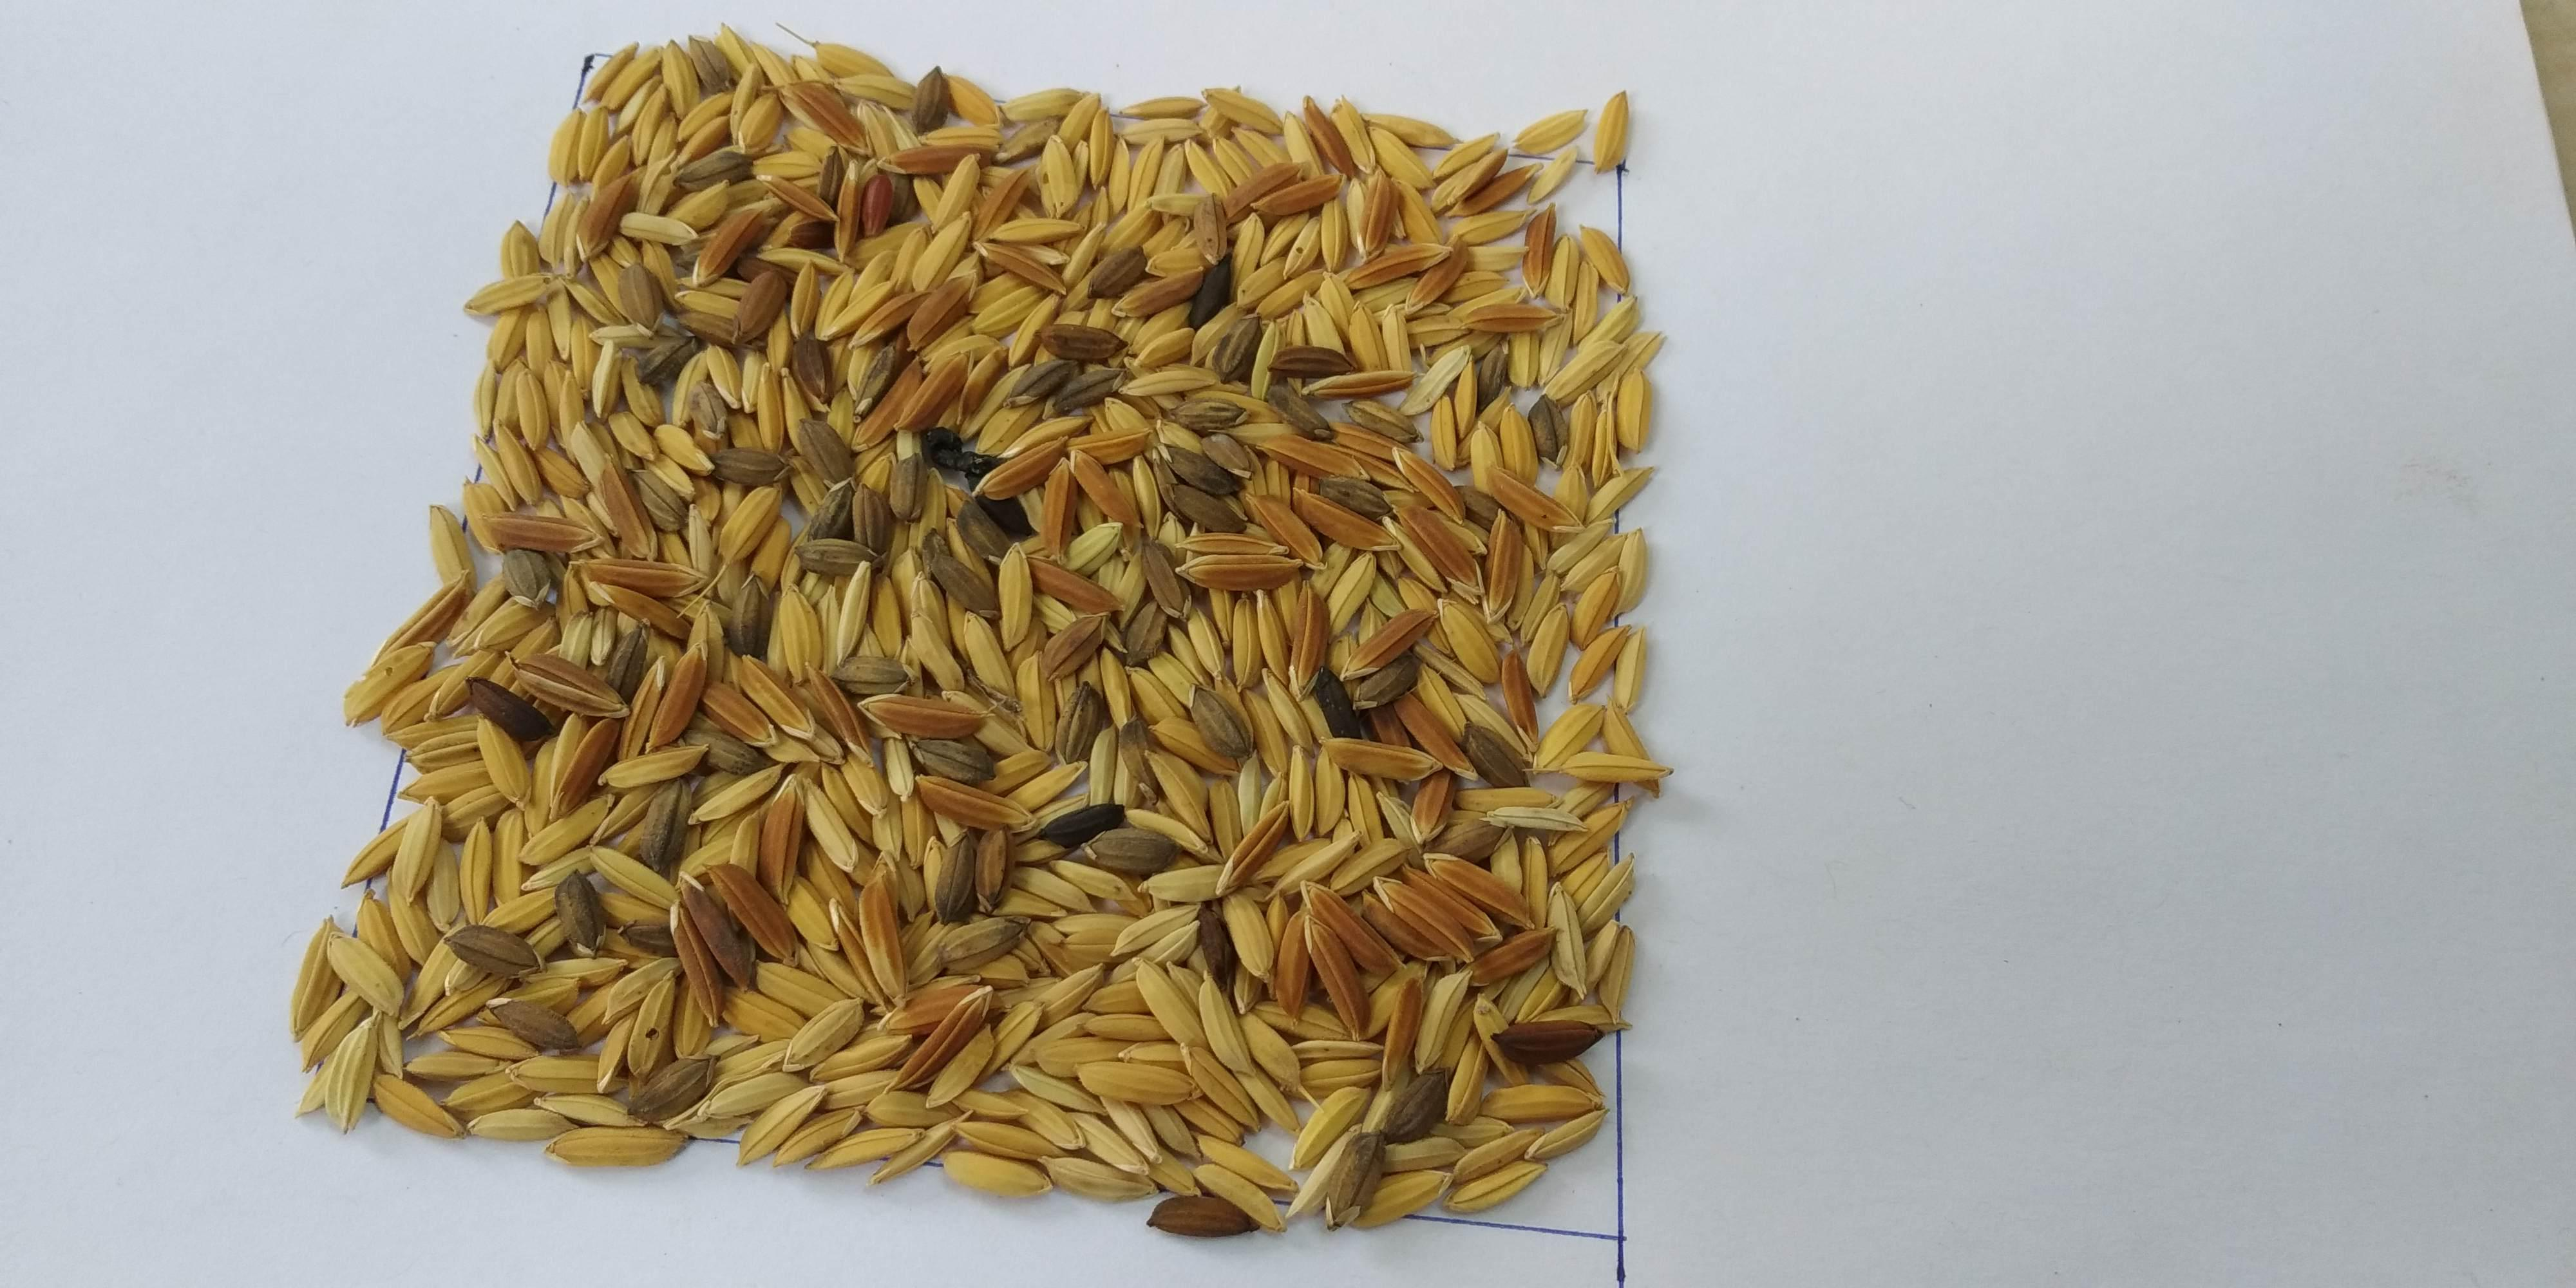impure: (549, 191, 1541, 1071)
